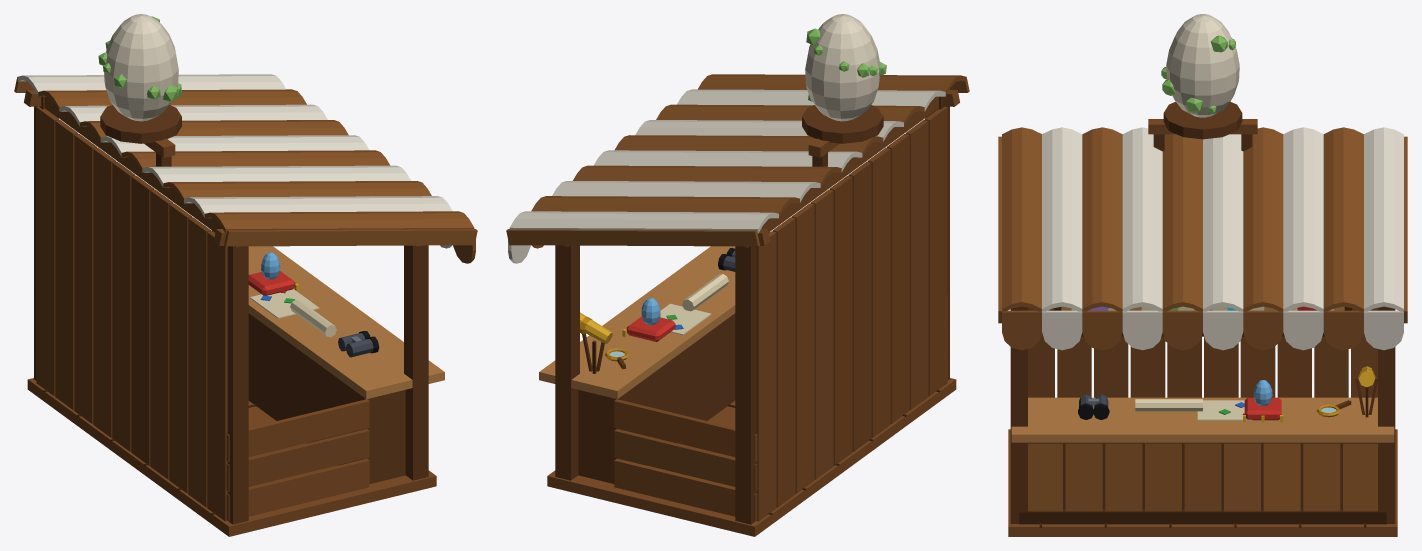
File: stall_track.glb
The picture shows the model from 3 angles, left to right: view 1: azimuth 30°, elevation 25°; view 2: azimuth 150°, elevation 25°; view 3: azimuth 270°, elevation 25°; orthographic projection. The views are drawn at different scales.
Visible parts, largest first — view 1: stall_track; view 2: stall_track; view 3: stall_track.
Part boxes in pixels (left/top/right/bottom): stall_track: left=14, top=14, right=477, bottom=536; stall_track: left=506, top=14, right=969, bottom=536; stall_track: left=998, top=14, right=1407, bottom=536.
Size of the model in its own units: 2.72 by 4.33 by 3.75.
